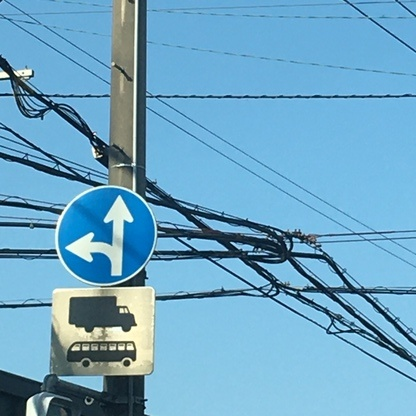Direction_sign: (49, 181, 159, 286)
